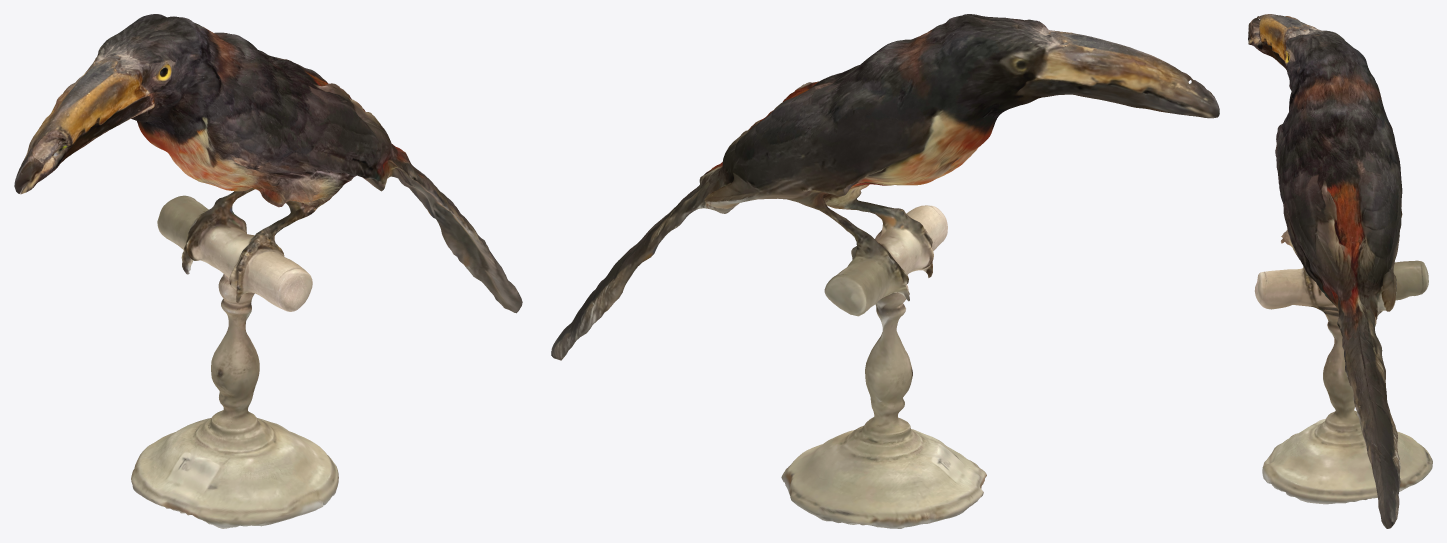
File: aracari_a_collier.glb
3 renders of one model, left to right at view 1: azimuth 30°, elevation 25°; view 2: azimuth 150°, elevation 25°; view 3: azimuth 270°, elevation 25°, orthographic. The views are drawn at different scales.
Visible parts, largest first — view 1: Object_2; view 2: Object_2; view 3: Object_2.
Boxes of the visible parts, x1=… form: Object_2: x1=14, y1=14, x2=522, y2=528; Object_2: x1=551, y1=14, x2=1219, y2=528; Object_2: x1=1248, y1=14, x2=1432, y2=528.
Size of the model in its own units: 0.325 by 0.2601 by 0.1097.
Materials: 1 (1 with a texture image).
